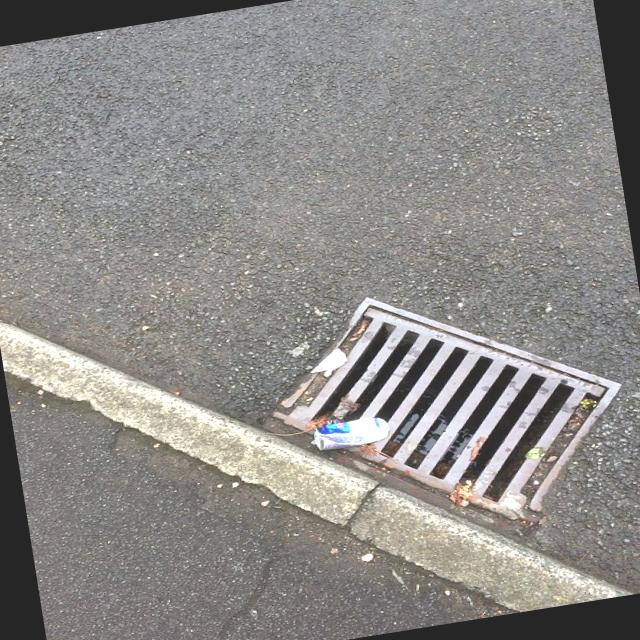Recycle: (312, 411, 396, 454)
